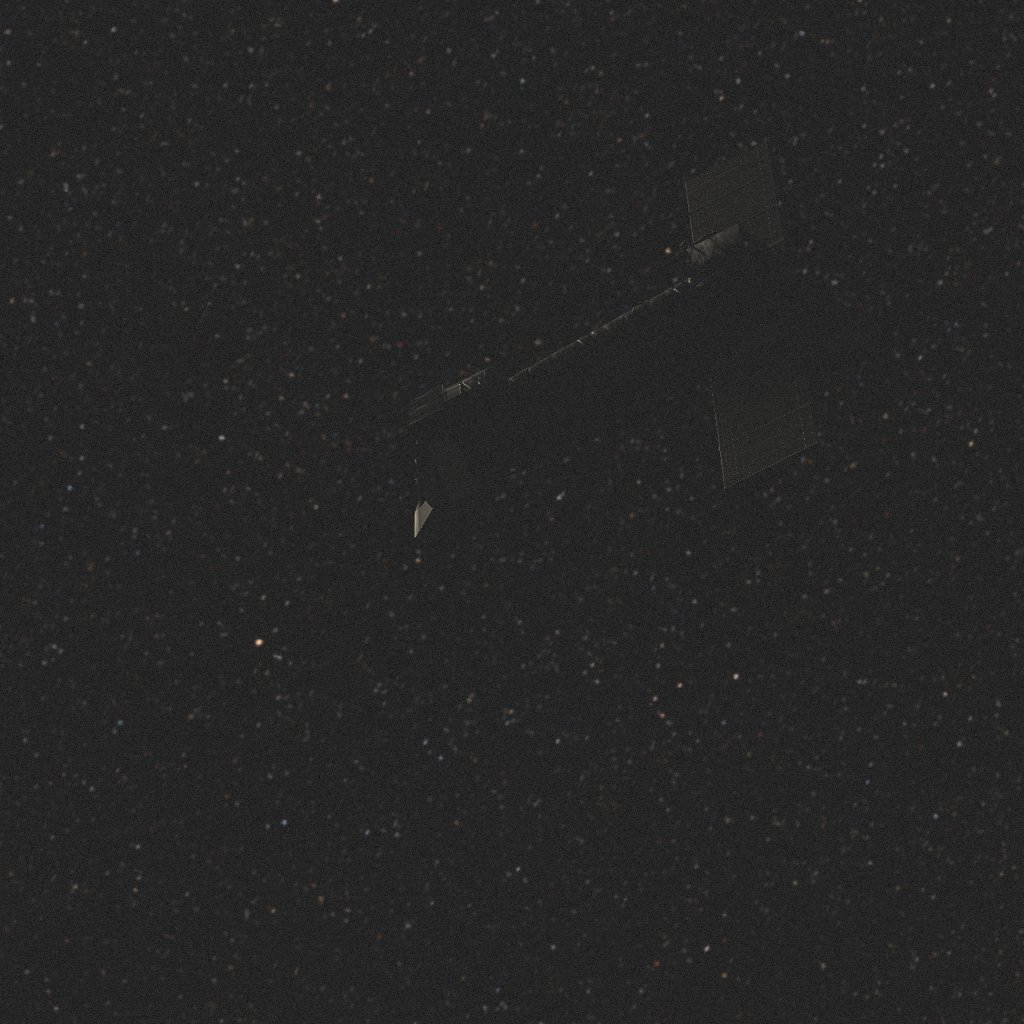xmm_newton: (409, 140, 885, 538)
